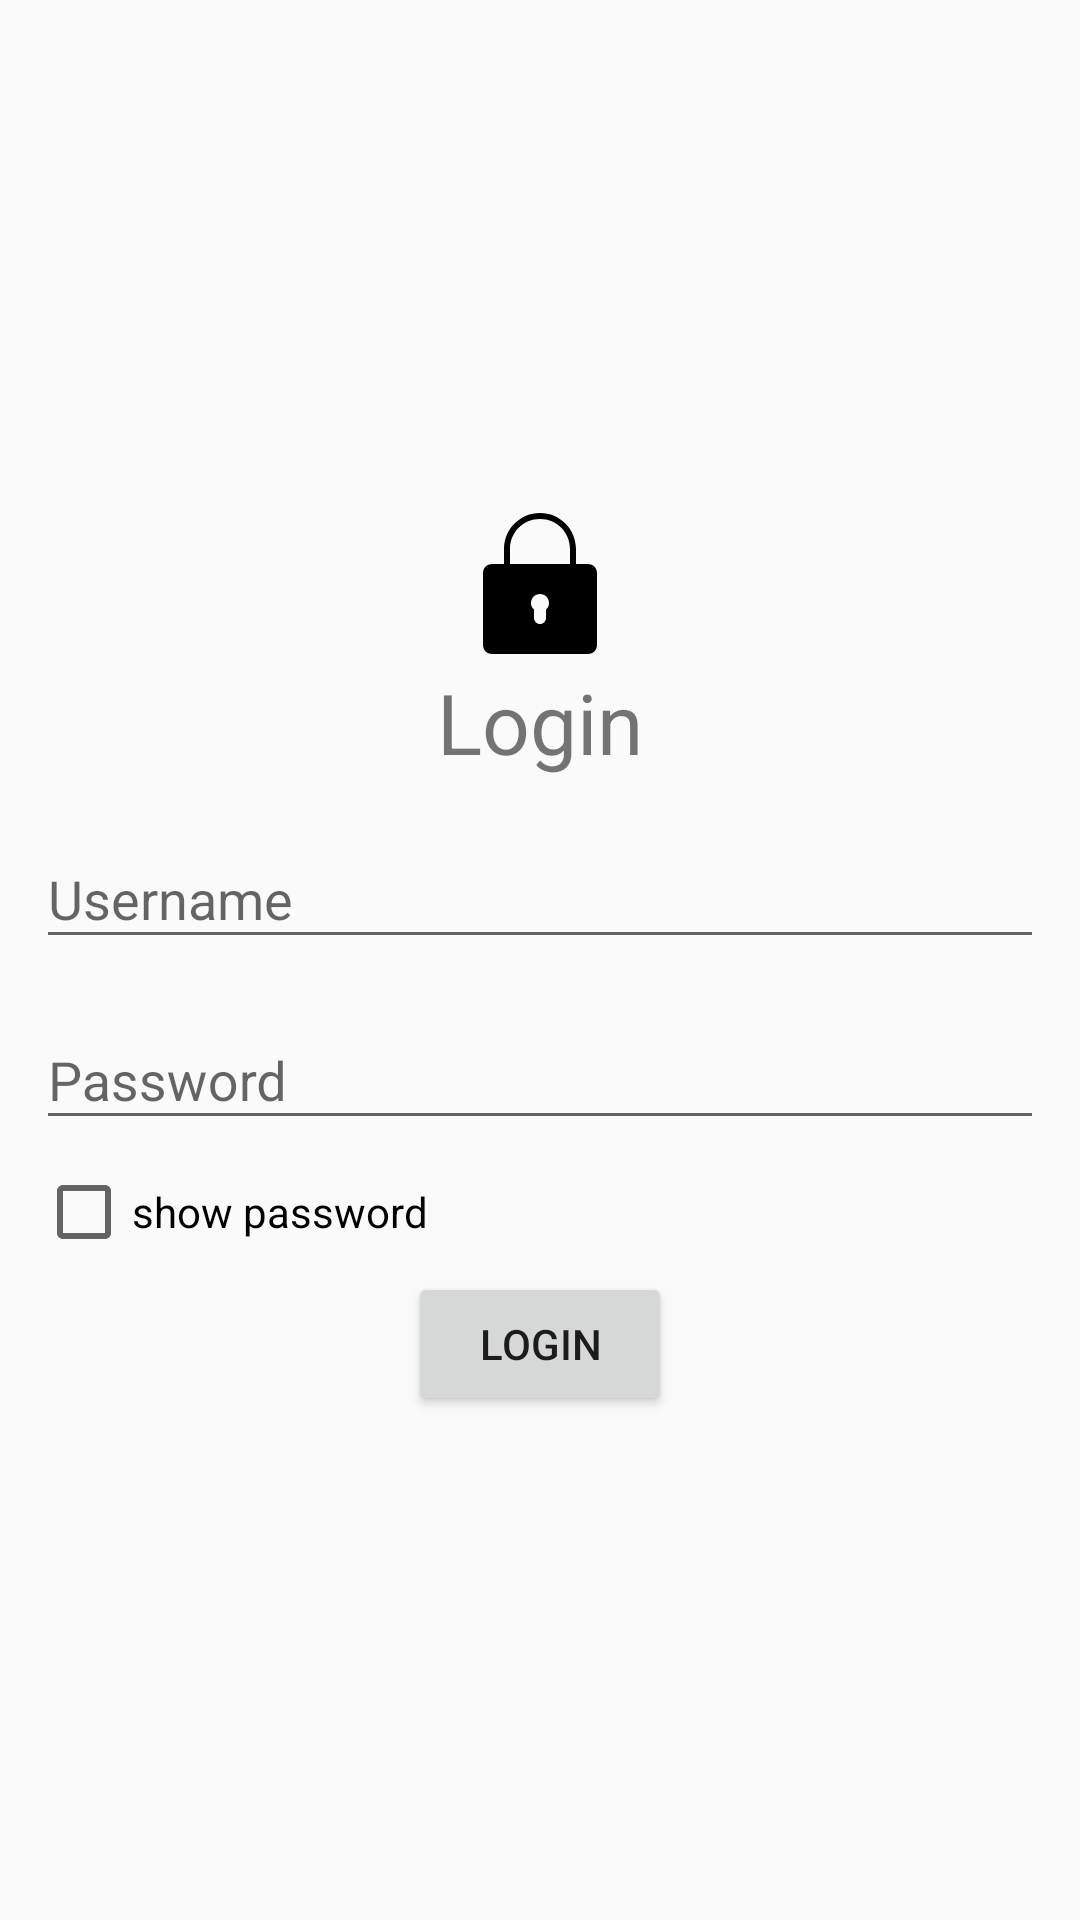

Named icons in this screenshot (1080 x 1920) and their centers, point (x, y):
lock: point (540, 583)
